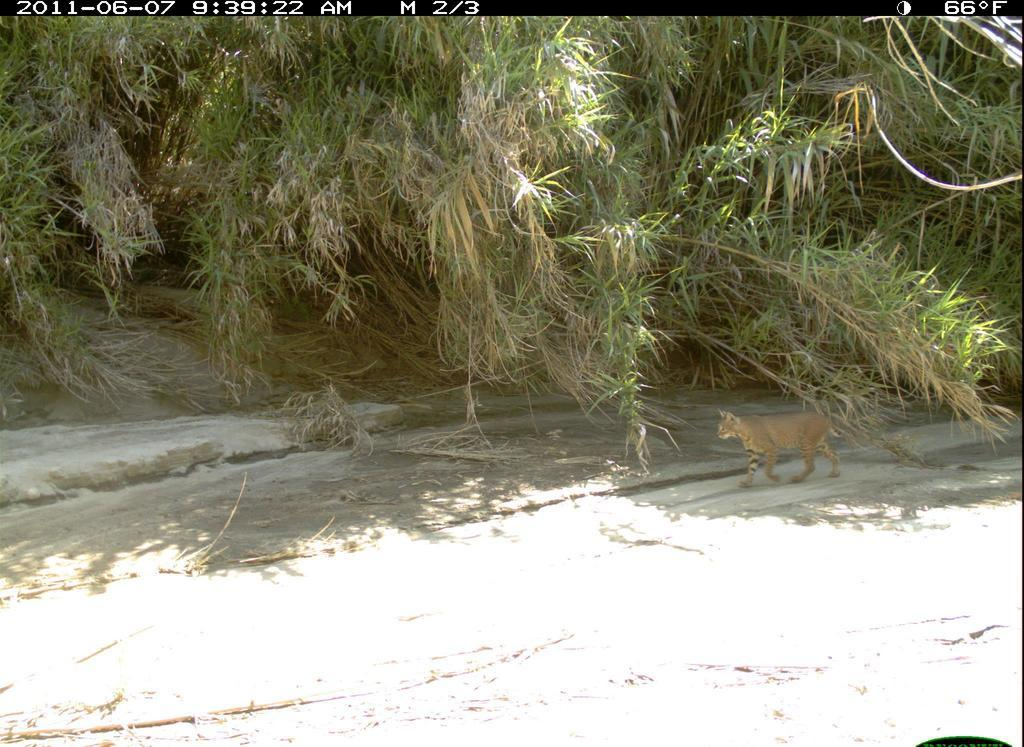bobcat: (703, 395, 870, 501)
